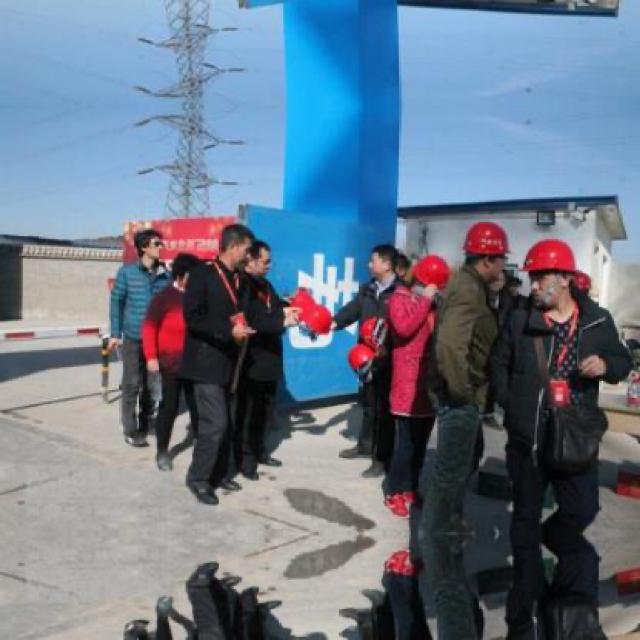con casco: (392, 234, 532, 328), (497, 242, 607, 336), (434, 207, 512, 297), (574, 220, 607, 247)
sin casco: (64, 216, 166, 291), (236, 232, 300, 288)
